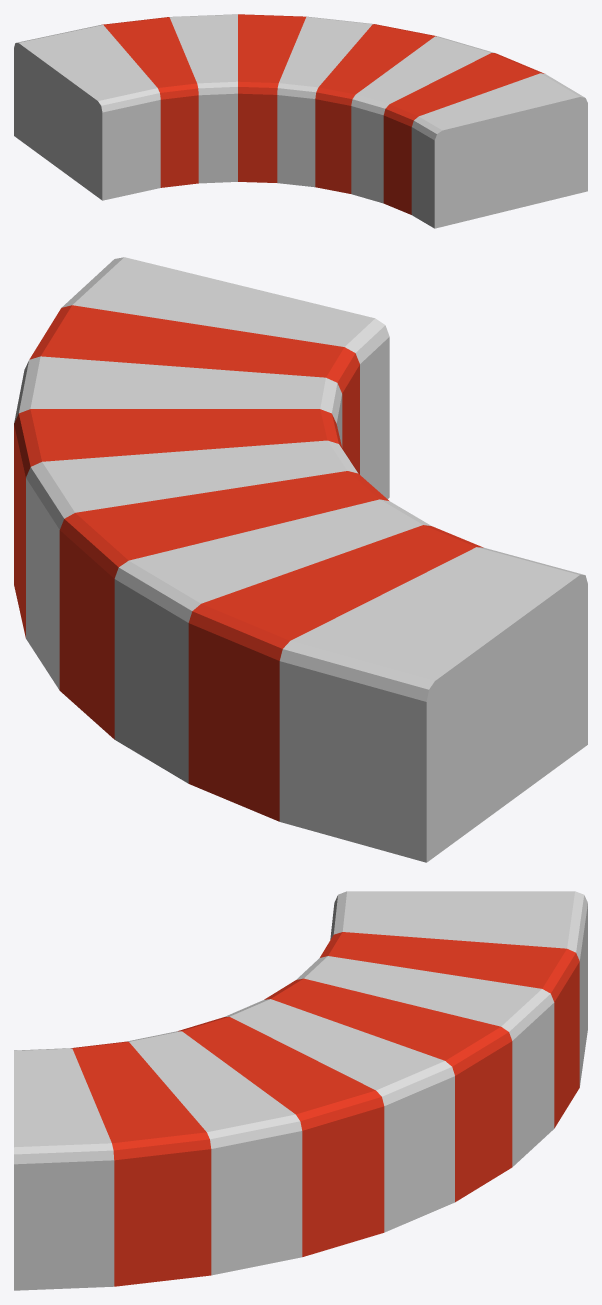
The model's file is TurnRightRoad.fbx.
3 views of the same model, one above another, from view 1: azimuth 30°, elevation 25°; view 2: azimuth 150°, elevation 25°; view 3: azimuth 270°, elevation 25° (orthographic). The views are drawn at different scales.
Visible parts, largest first — view 1: TurnRightRoad; view 2: TurnRightRoad; view 3: TurnRightRoad.
Boxes of the visible parts, box(x1,y1,x2,y2) form: TurnRightRoad: box(14, 14, 587, 228); TurnRightRoad: box(14, 257, 587, 862); TurnRightRoad: box(14, 891, 587, 1290).
Size of the model in its own units: 577 by 142 by 536.
